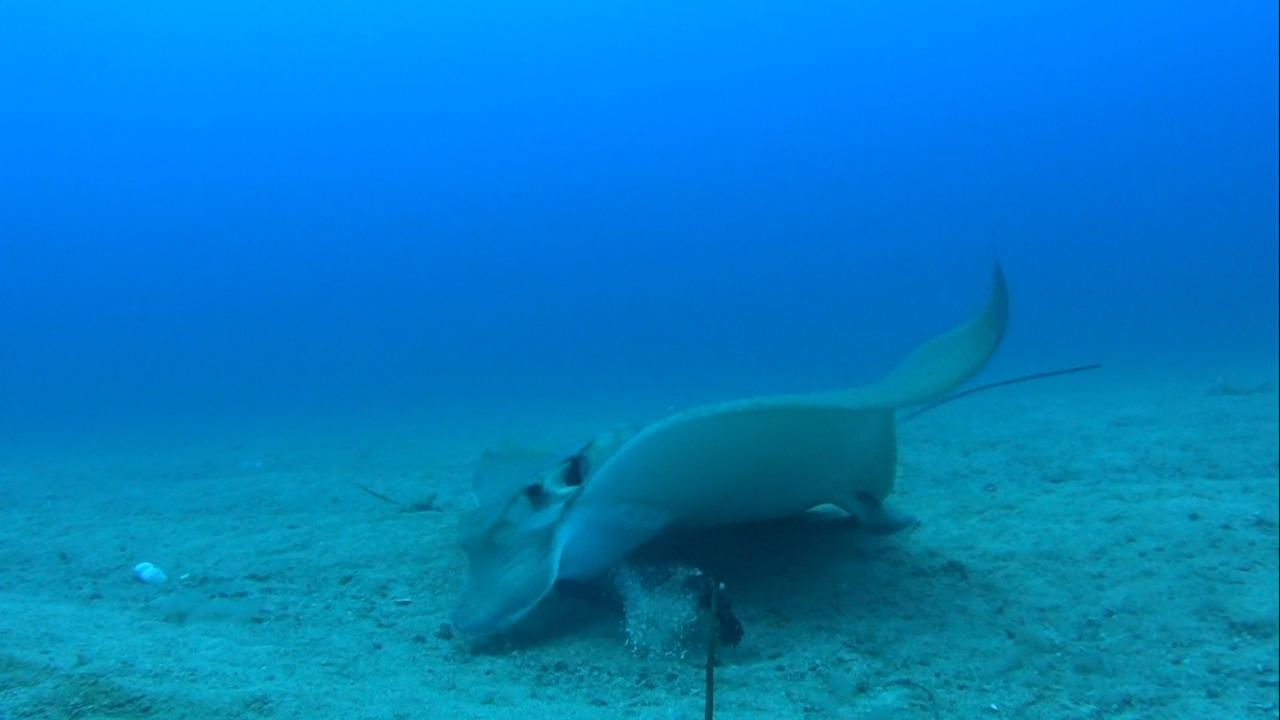myliobatis: (447, 255, 1108, 665)
